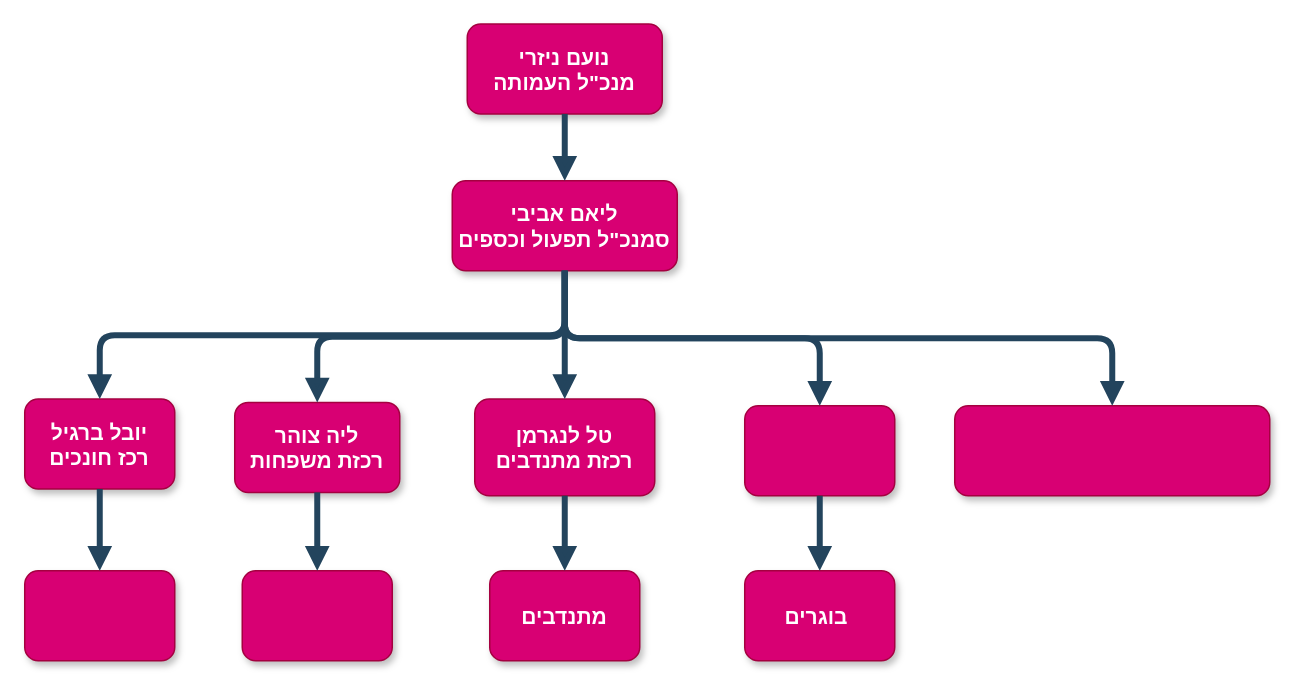
Some shapes in this 1295 by 686 pixel diagram are drawn without their labels. Here are the shapes that lost their labels. From the top down, the centre of each, then its label:
At point 820,452: "נבו ג׳יבלי רכז בוגרים".
At point 1113,452: "אילה קריץ רכזת טכנולוגיה רכזת רישום משפחות ומתנדבים".
At point 100,617: "חונכים".
At point 318,617: "משפחות".
